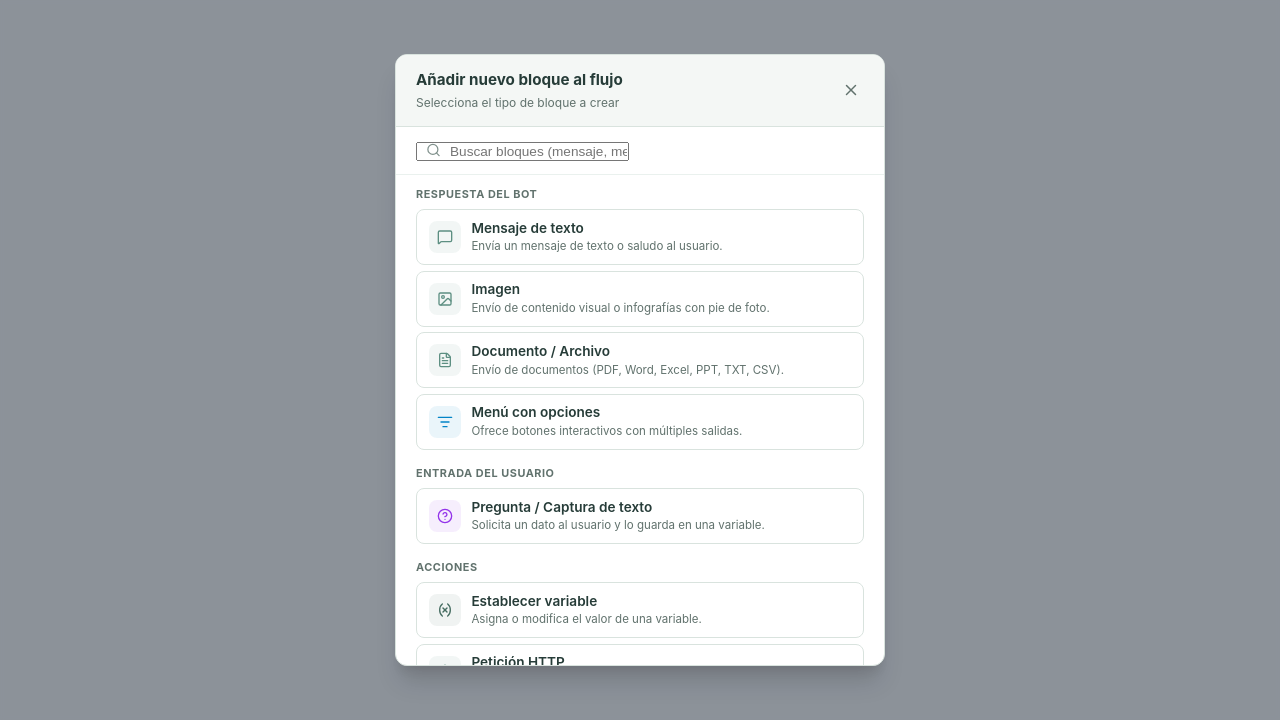
Test case: Conversational Builder V3 - Frontend Components › ContextualNodeMenu › renders categories and filters blocks by search term
Later steps or results of the test are not shown.
Expected: the heading "Añadir nuevo bloque al flujo" is shown, [416,69,623,91]
Expected: the text "Menú con opciones" is shown, [471,404,600,420]
Note: Search filter
Type "HTTP" into the field with placeholder "Buscar bloques (mensaje, menú, variable, http...)" at (522, 151), box [416,142,629,161]
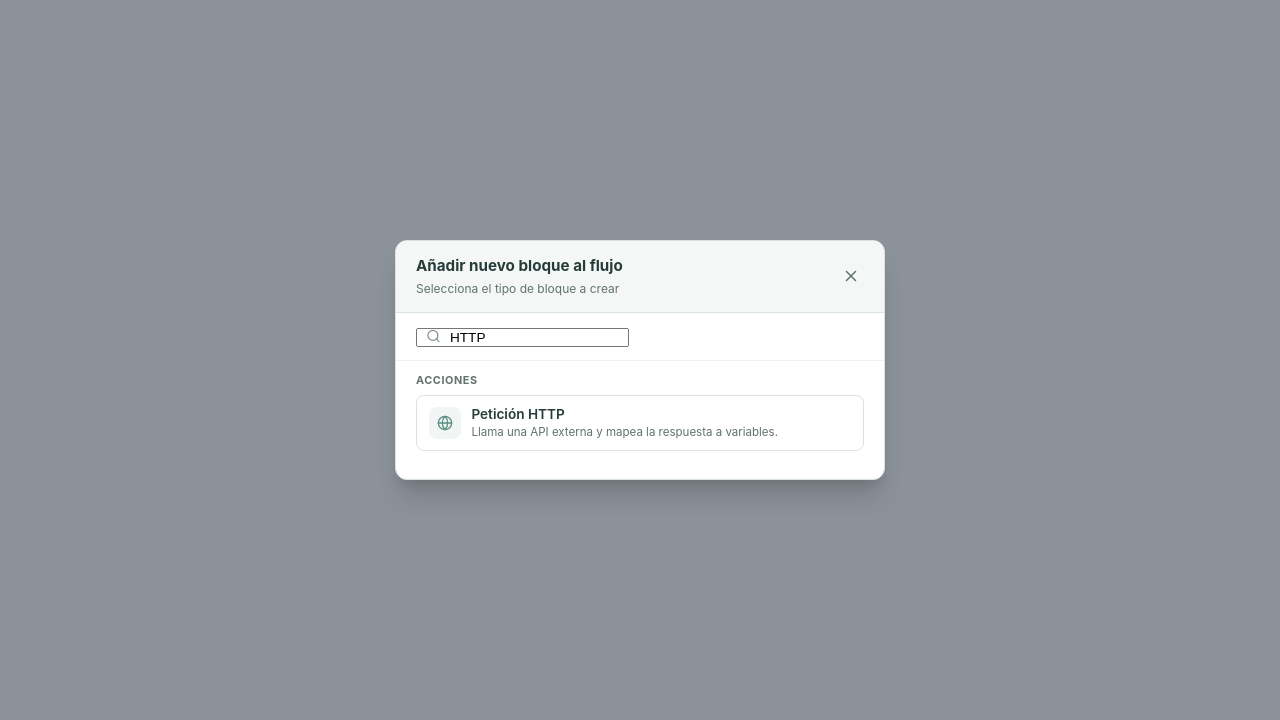
Expected: the text "Petición HTTP" is shown, [471,406,565,422]
Result: the text "Menú con opciones" is gone
